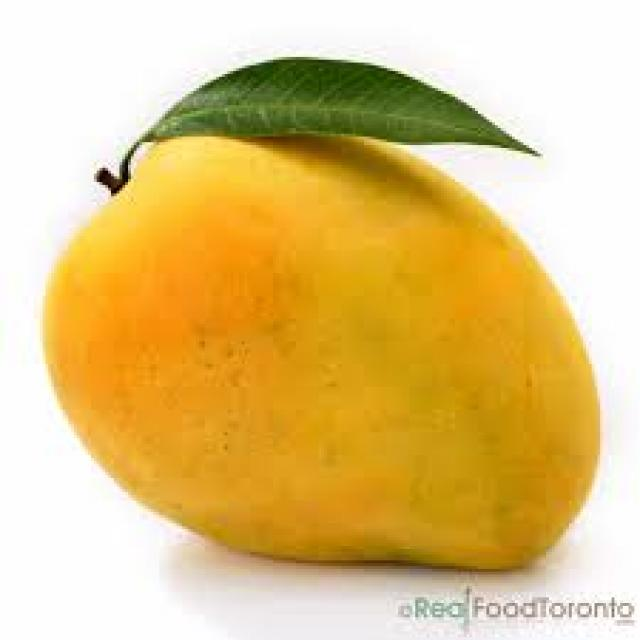organic waste: (40, 108, 594, 569), (131, 54, 540, 154)
